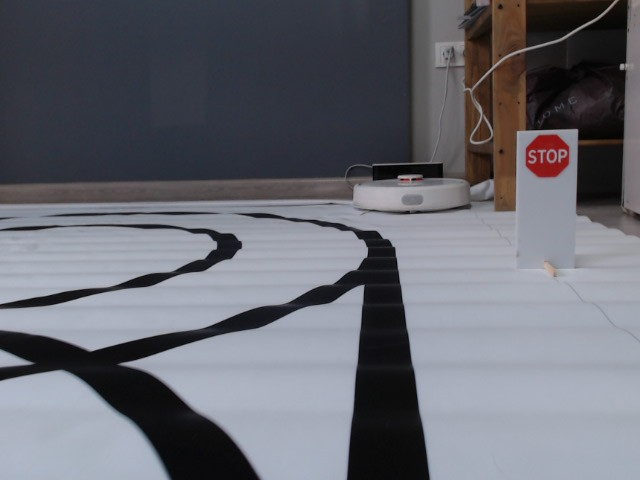Stop: (524, 133, 571, 179)
